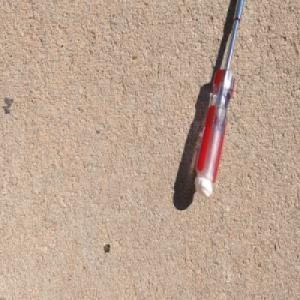Screwdriver: (193, 0, 247, 200)
